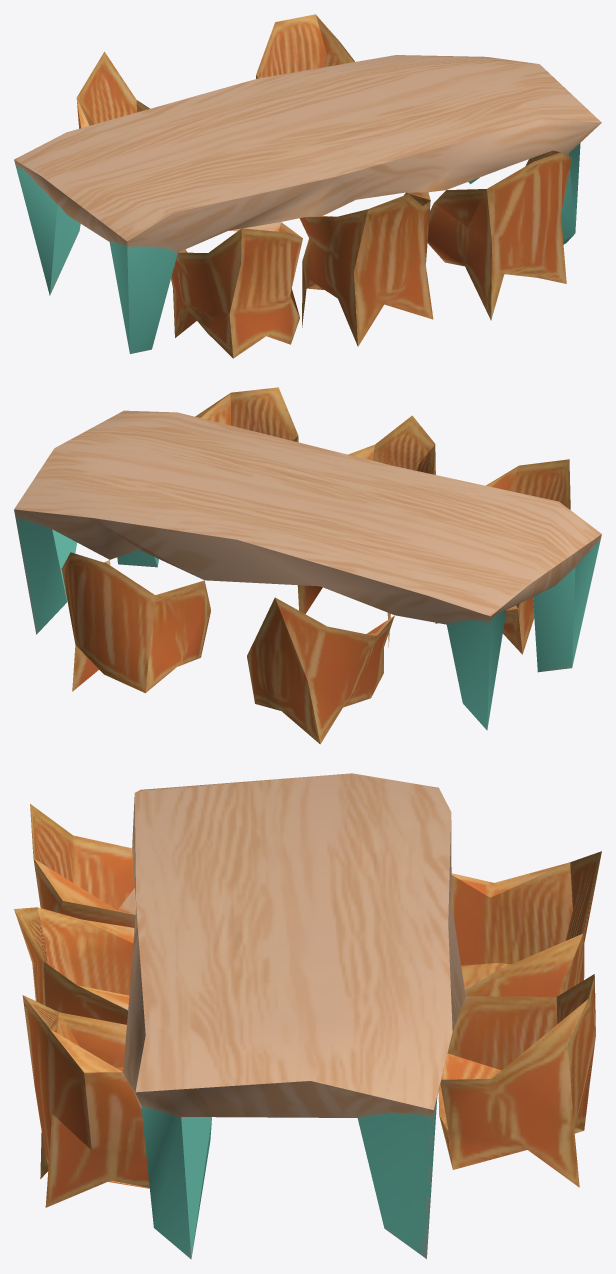
Rendered from seavilla-dining-table.glb.
3 renders of one model, top to bottom at view 1: azimuth 30°, elevation 25°; view 2: azimuth 150°, elevation 25°; view 3: azimuth 270°, elevation 25°, orthographic. The views are drawn at different scales.
Parts seen in each view (by area): view 1: geometry_0; view 2: geometry_0; view 3: geometry_0.
Boxes of the visible parts, x1,y1,x2,y2 form: geometry_0: [14, 14, 601, 358]; geometry_0: [14, 387, 601, 744]; geometry_0: [14, 773, 601, 1259].
Size of the model in its own units: 1 by 0.3454 by 0.7882.
1 material, 1 textured.
